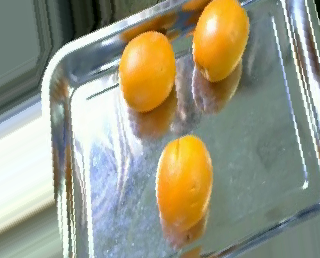Orange: (153, 134, 211, 227), (190, 1, 250, 82), (119, 31, 176, 113)
